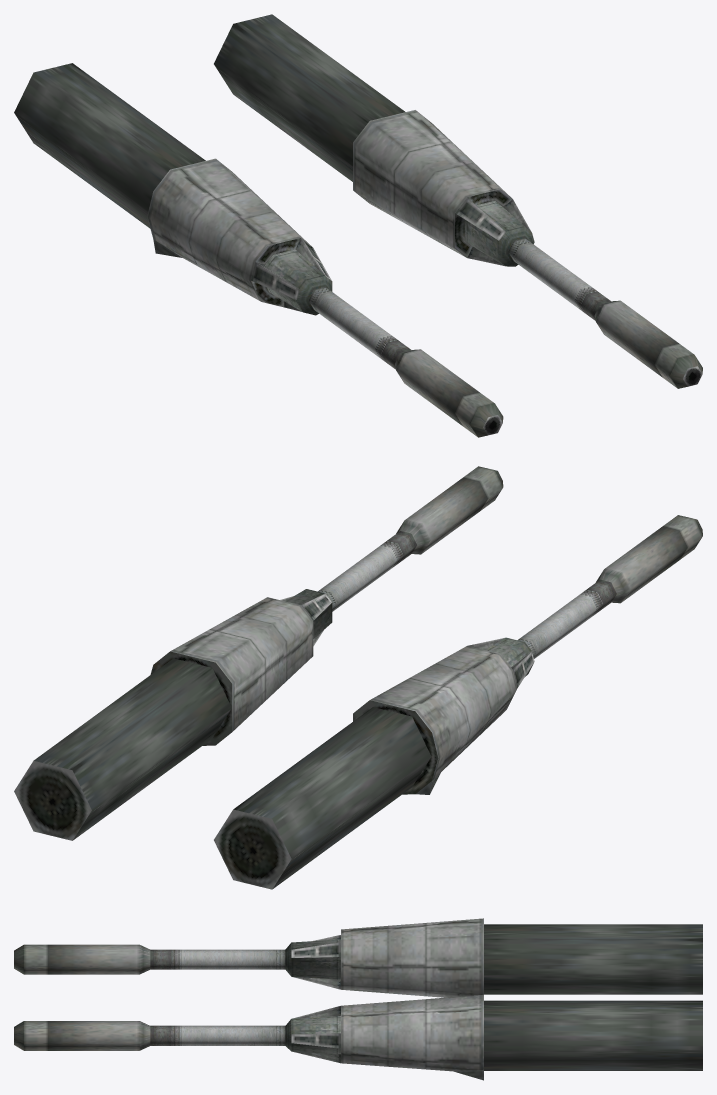
Rendered from bwing_weapon3_s05_l1.fbx.
3 views of the same model, one above another, from view 1: azimuth 30°, elevation 25°; view 2: azimuth 150°, elevation 25°; view 3: azimuth 270°, elevation 25° (orthographic). The views are drawn at different scales.
Visible parts, largest first — view 1: mesh_node; view 2: mesh_node; view 3: mesh_node.
Boxes of the visible parts, x1=… form: mesh_node: x1=14, y1=14, x2=702, y2=437; mesh_node: x1=14, y1=466, x2=702, y2=889; mesh_node: x1=14, y1=918, x2=702, y2=1080.
Bounding box in the file's own units: 1.14 × 0.3345 × 2.99.
1 material, 1 textured.
